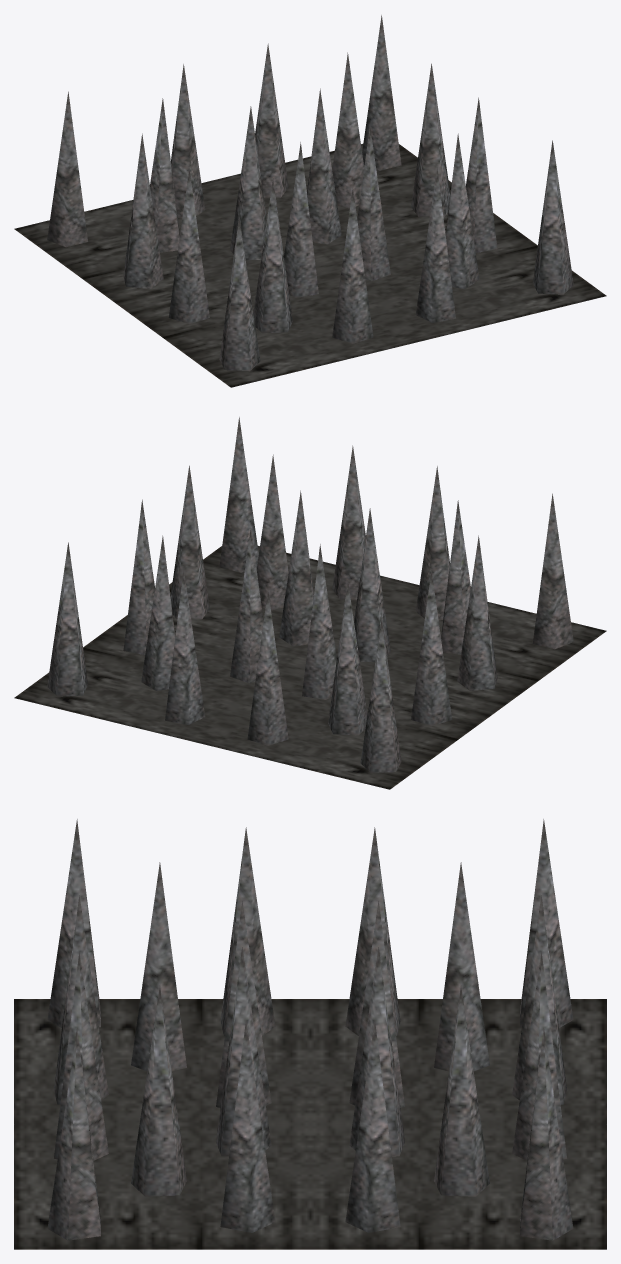
Rendered from Spikes.fbx.
3 views of the same model, one above another, from view 1: azimuth 30°, elevation 25°; view 2: azimuth 150°, elevation 25°; view 3: azimuth 270°, elevation 25° (orthographic). The views are drawn at different scales.
Parts seen in each view (by area): view 1: Spikes; view 2: Spikes; view 3: Spikes.
Boxes of the visible parts, x1,y1,x2,y2 form: Spikes: [14, 15, 606, 387]; Spikes: [14, 417, 606, 789]; Spikes: [14, 819, 606, 1249].
Bounding box in the file's own units: 200 × 75 × 200.
1 material, 1 textured.
